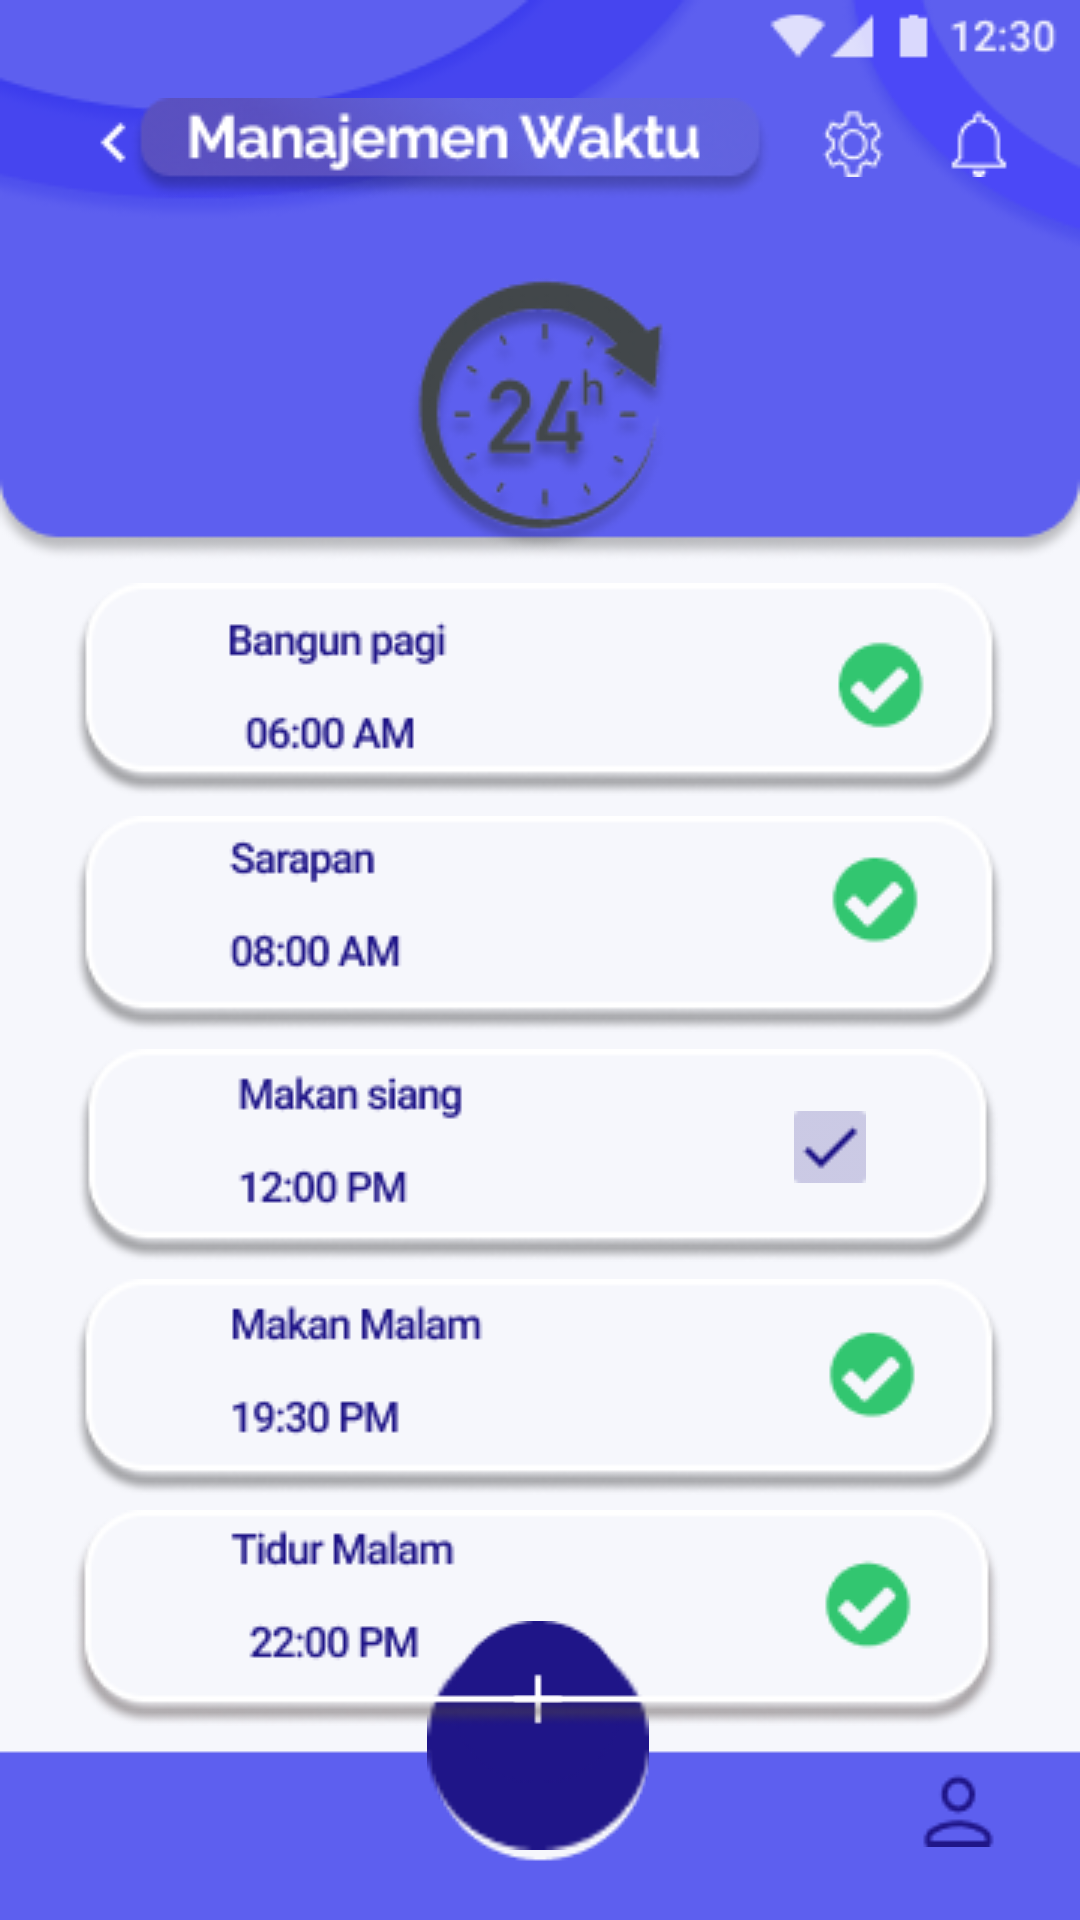

Locate icon controls on the screen. Image size 1080*1920, boxes as (x1, y1, x2, y2).
settings: (823, 110, 883, 177)
